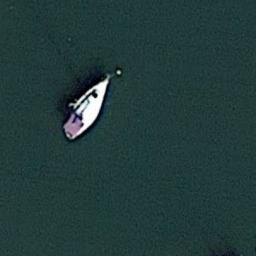boat: (60, 74, 112, 142)
